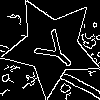Y: (26, 21, 82, 77)
